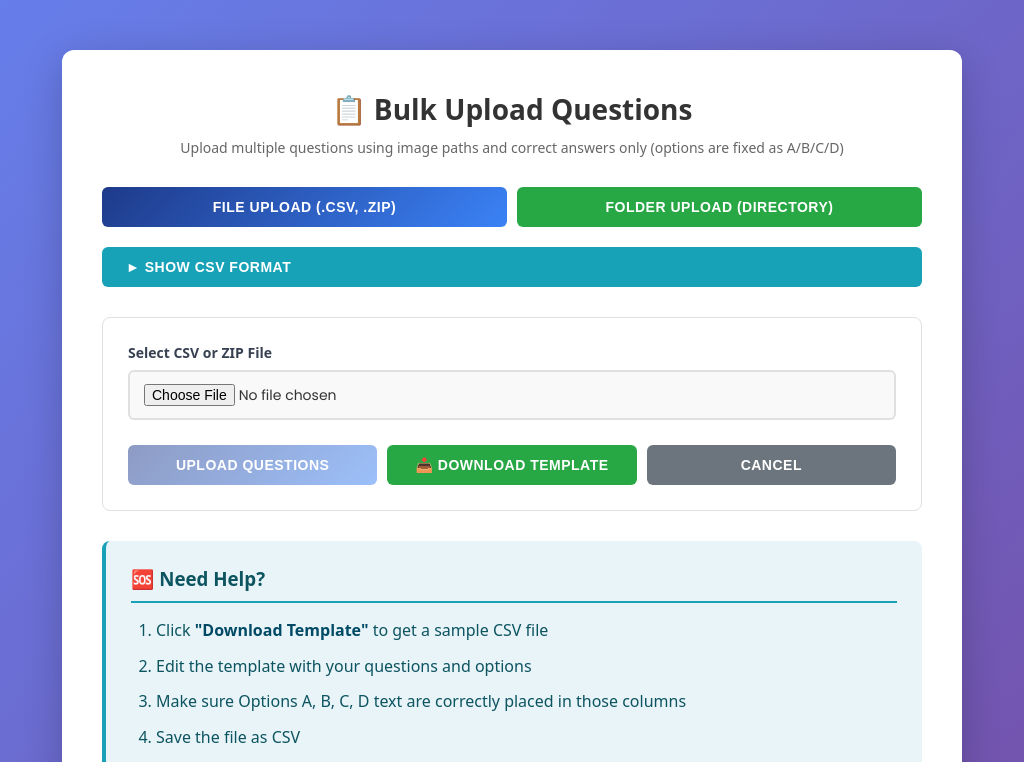
Test: QuestionUpload Component › shows error when template download fails
Click the button "📥 Download Template" at (512, 465), box [387, 445, 637, 485]
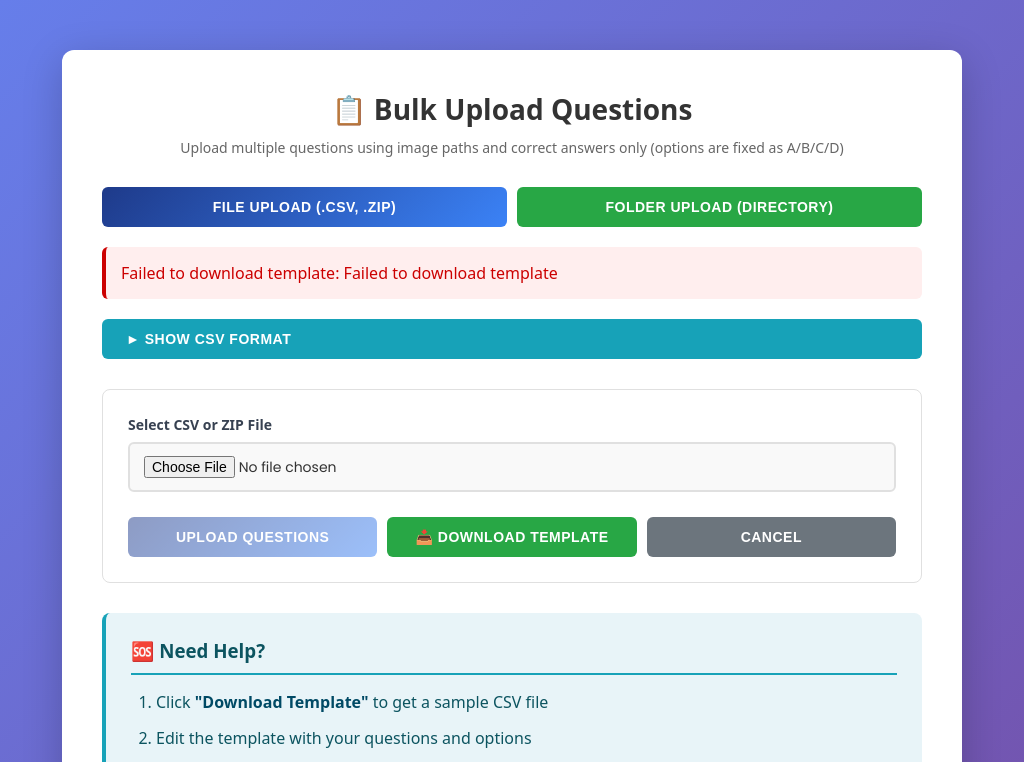
Result: the text "Failed to download template: Failed to download template" is shown at [102, 247, 922, 299]
